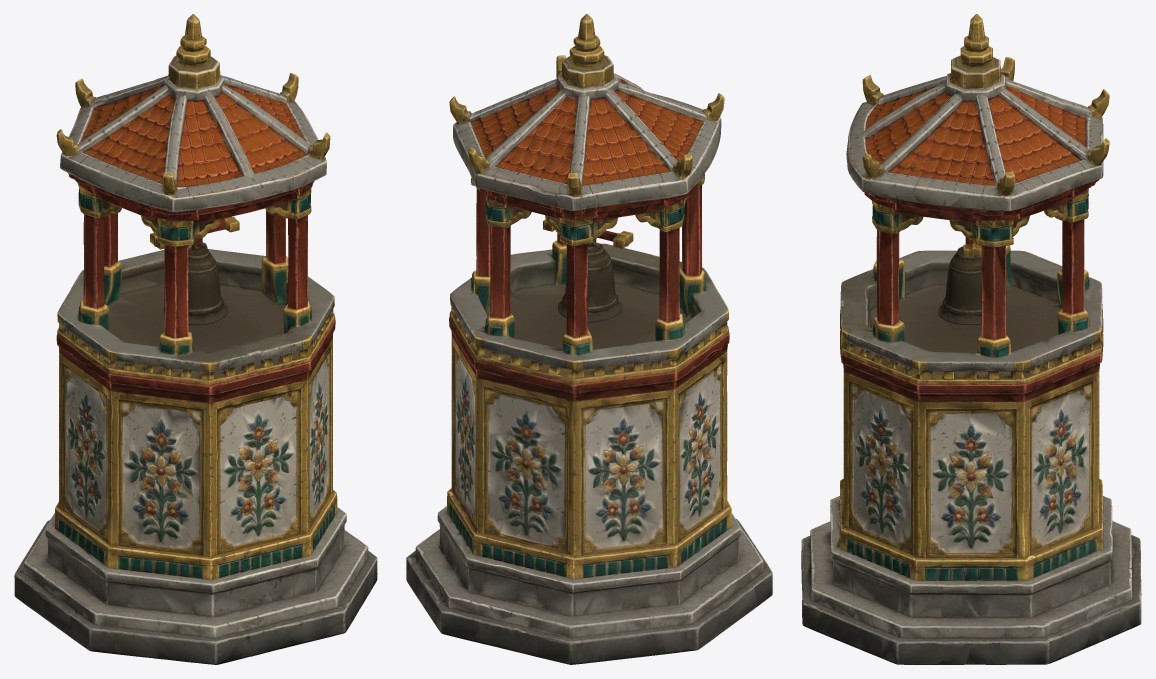
File: bq_sword_pav.glb
The picture shows the model from 3 angles, left to right: view 1: azimuth 30°, elevation 25°; view 2: azimuth 150°, elevation 25°; view 3: azimuth 270°, elevation 25°; orthographic projection.
Visible parts, largest first — view 1: mesh_node; view 2: mesh_node; view 3: mesh_node.
Boxes of the visible parts, x1,y1,x2,y2 form: mesh_node: (14, 14, 377, 664); mesh_node: (406, 14, 772, 664); mesh_node: (801, 14, 1141, 664).
Size of the model in its own units: 1.01 by 1.9 by 1.01.
Materials: 1 (1 with a texture image).
